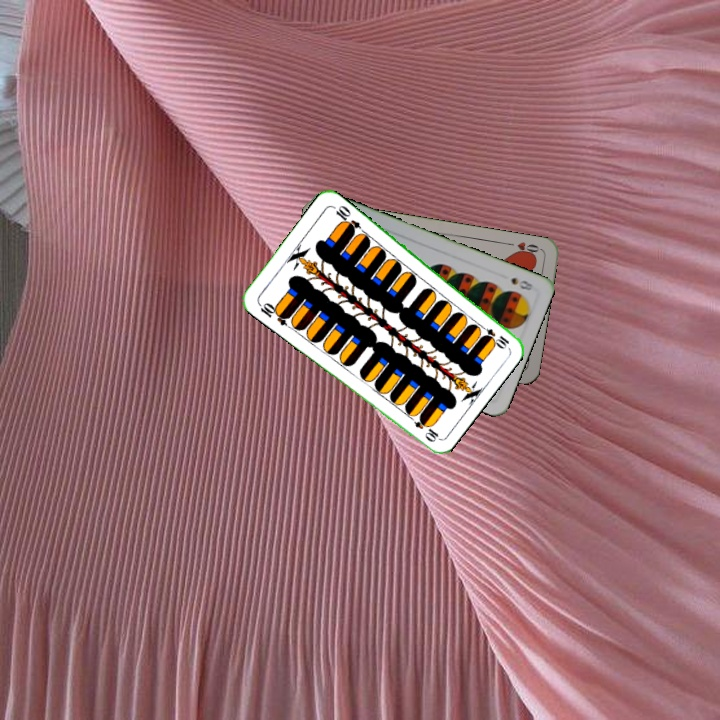E10: (254, 298, 292, 328), (475, 320, 512, 350)
HO: (503, 238, 543, 259)
S8: (507, 273, 536, 293)
